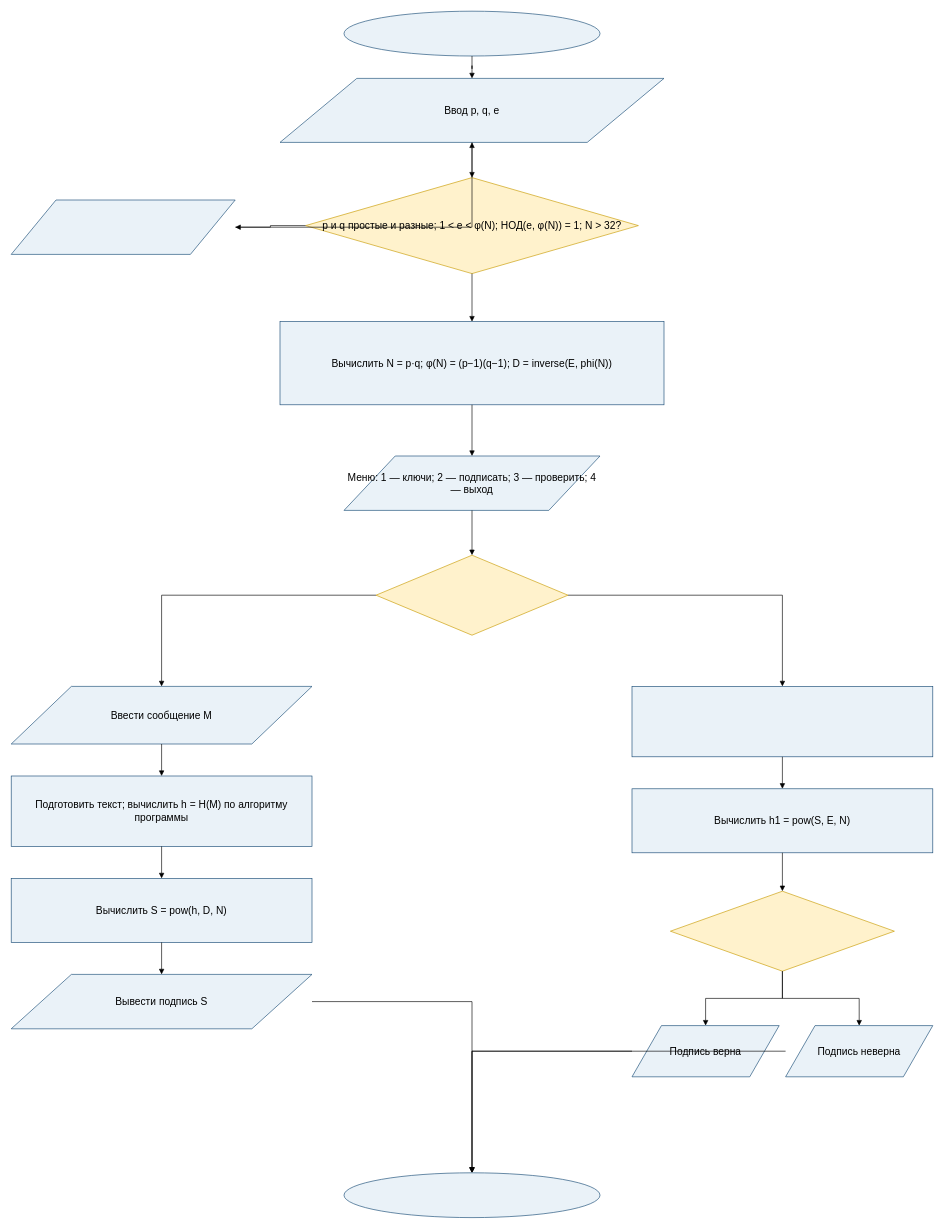
This 944x1229 diagram has some shape labels left out. Each missing label, with the box of its shape:
h1 = h?: (670, 891, 894, 971)
Выбор пользователя: (375, 555, 568, 635)
Конец / возврат в меню: (343, 1172, 600, 1218)
Начало: (343, 11, 600, 56)
Повторно вычислить хэш h = H(M): (631, 686, 933, 757)
Сообщить об ошибке; повторить ввод: (11, 199, 235, 254)
